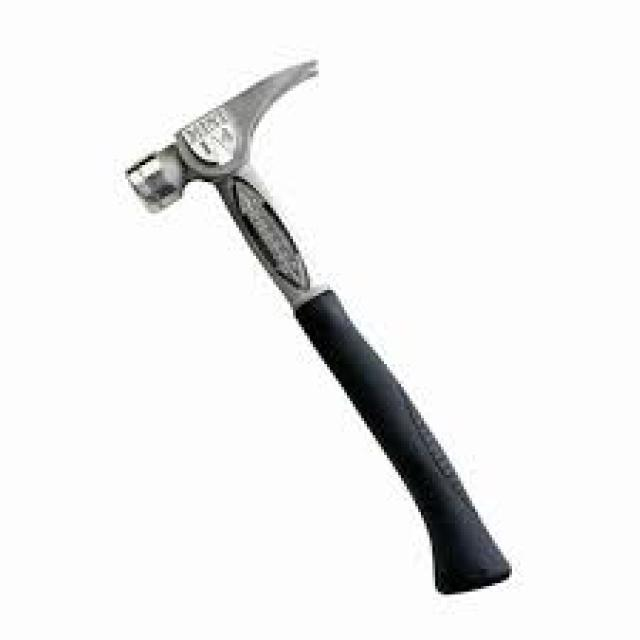Palu: (107, 52, 548, 601)
